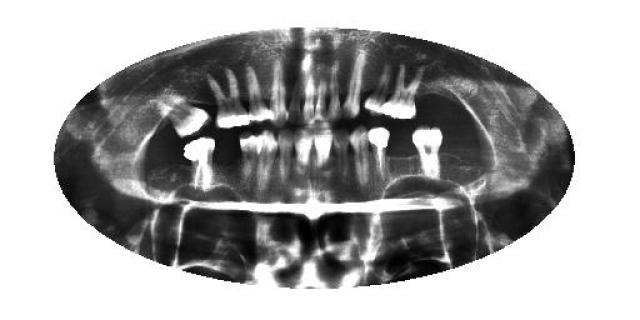Fillings: (209, 64, 249, 128), (380, 64, 422, 121), (248, 64, 274, 122)
Implant: (184, 138, 216, 192), (411, 128, 444, 178), (369, 128, 390, 182)
